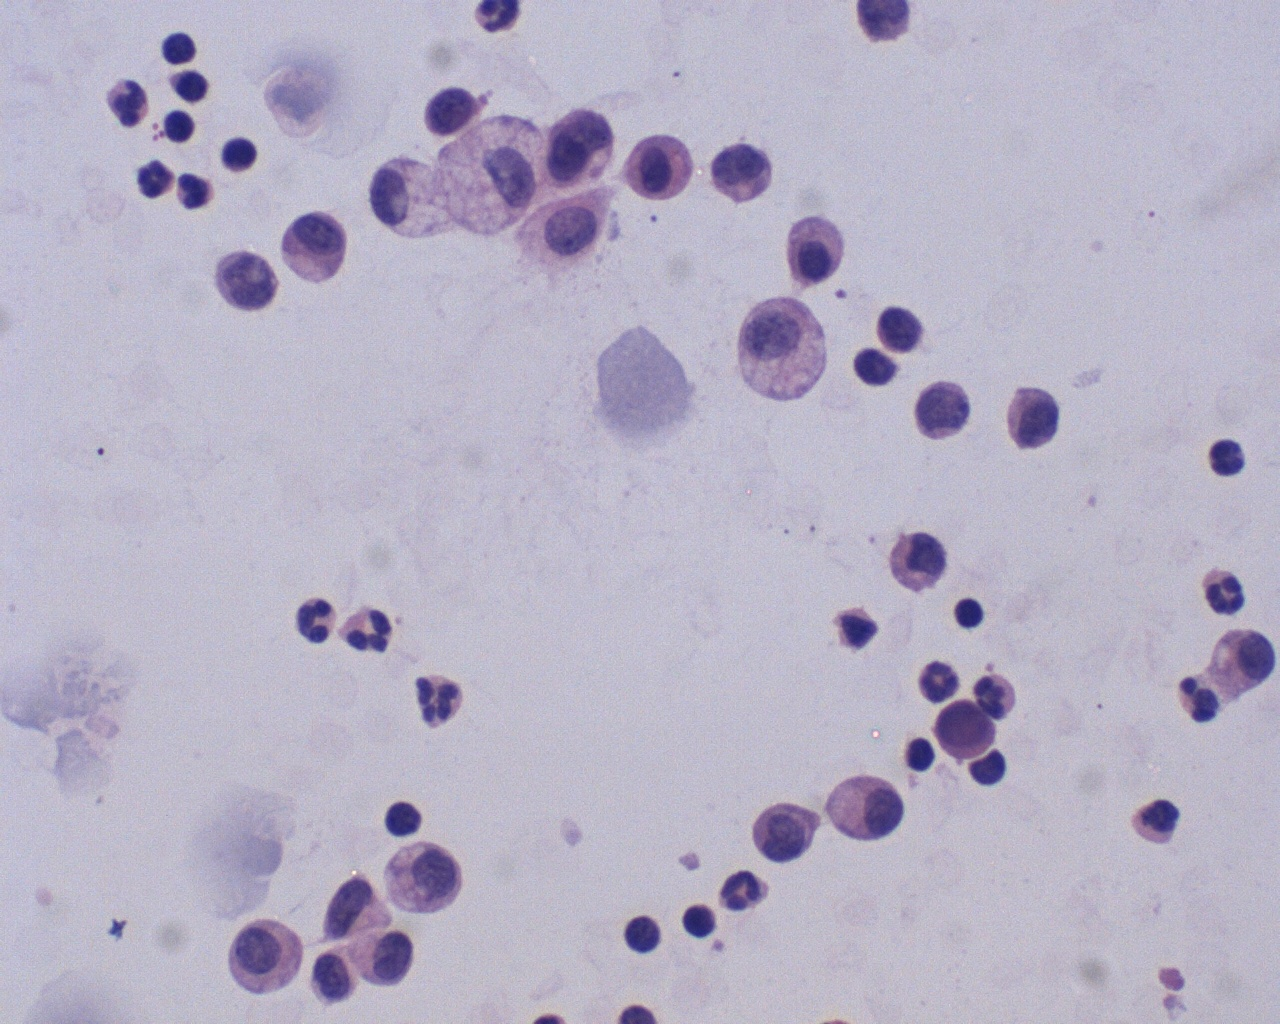ab: (214, 241, 280, 318), (1003, 380, 1069, 456), (347, 921, 418, 990), (908, 376, 974, 446), (936, 700, 1000, 766)
lymph: (380, 795, 430, 843), (949, 592, 990, 633)
meso: (816, 759, 913, 847), (225, 911, 311, 1001), (276, 199, 357, 285), (616, 126, 698, 207), (779, 209, 856, 293)
neutro: (410, 667, 473, 736), (99, 73, 157, 134), (343, 605, 398, 658), (1203, 565, 1252, 624), (716, 866, 774, 912), (134, 149, 178, 207), (171, 162, 216, 216), (293, 594, 339, 646)
